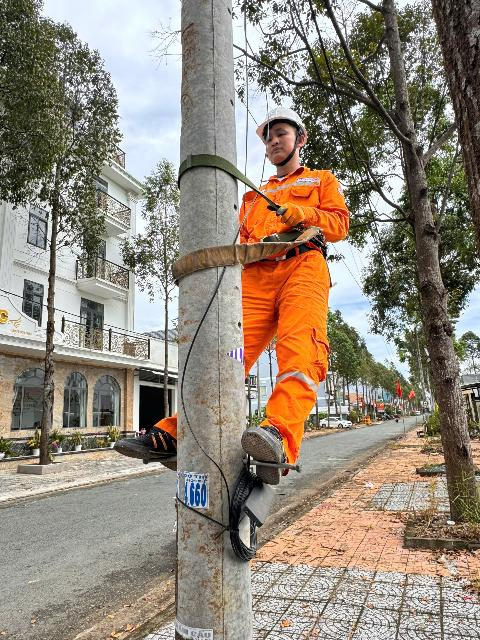harness: (224, 232, 341, 264), (279, 196, 308, 230)
helmet: (249, 105, 316, 143)
shoes: (238, 415, 294, 493), (88, 424, 191, 465)
